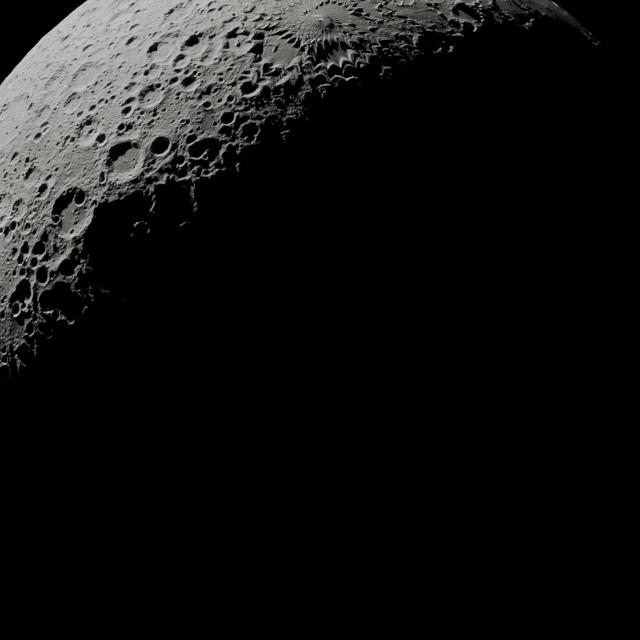crater: (248, 31, 302, 78), (35, 279, 85, 323), (20, 113, 64, 158), (104, 138, 147, 181), (49, 187, 89, 230), (66, 54, 105, 92), (186, 136, 222, 162), (179, 35, 211, 61), (8, 278, 33, 310), (38, 287, 63, 312), (138, 88, 166, 110), (5, 197, 26, 224), (148, 135, 172, 156), (238, 121, 260, 142), (75, 114, 96, 136), (413, 33, 436, 52), (60, 91, 82, 110), (238, 78, 260, 96), (57, 257, 77, 276), (245, 39, 265, 56), (34, 264, 50, 284), (179, 74, 199, 90), (172, 162, 190, 178), (30, 240, 46, 257), (218, 110, 236, 125), (182, 33, 200, 48), (162, 4, 180, 18), (36, 230, 50, 248), (225, 26, 242, 40), (217, 124, 234, 138), (73, 189, 86, 206), (146, 41, 161, 55), (120, 104, 134, 118), (184, 132, 198, 146), (172, 53, 187, 66), (23, 165, 36, 180), (94, 132, 107, 146), (124, 35, 139, 47), (222, 14, 238, 25), (36, 182, 48, 196), (242, 5, 258, 15), (12, 198, 24, 210), (129, 22, 142, 33), (82, 43, 95, 53), (201, 100, 213, 110), (207, 6, 219, 15), (217, 4, 229, 13), (32, 131, 42, 141), (10, 151, 19, 162), (88, 103, 98, 112), (27, 102, 34, 111)
